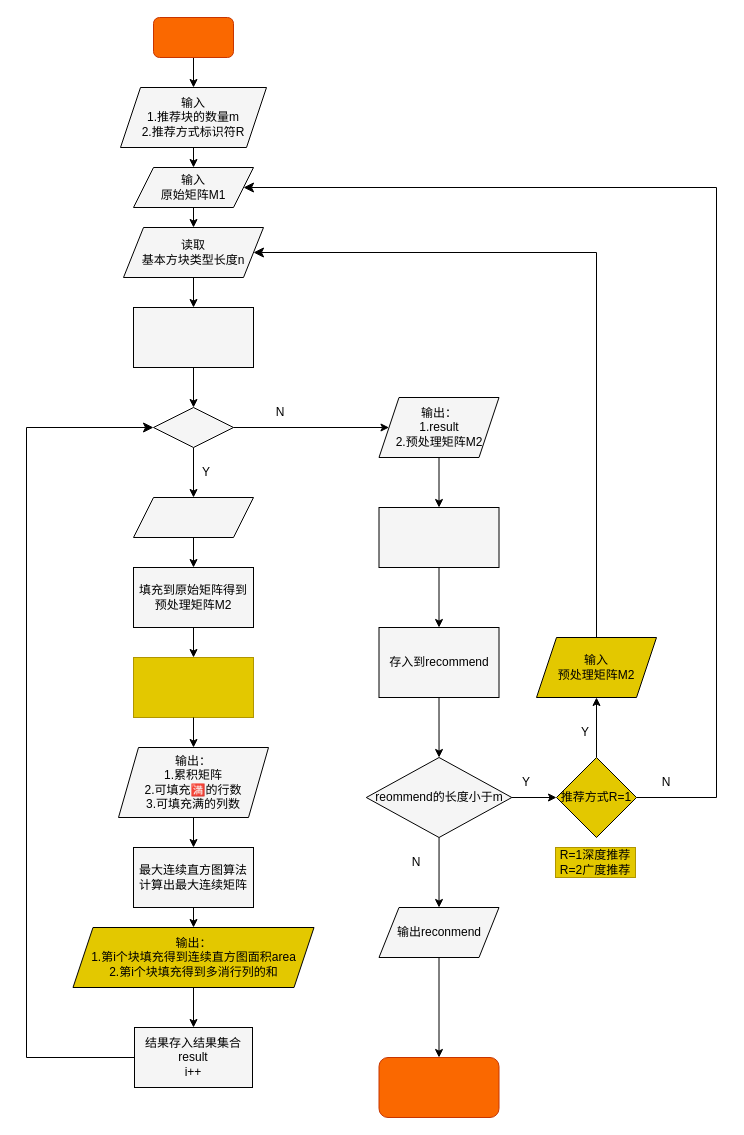
Image size: 744x1135. Some labels were removed from this diagram. The centre of each missing label's shape, as x and y in pixels:
"i<n" belongs at (x=193, y=427).
"i=0 j=0 result=[] recommend=[]" belongs at (x=193, y=337).
"开始" belongs at (x=193, y=37).
"按列的前缀和序列计算原始矩阵累积矩阵" belongs at (x=193, y=687).
"根据最大连续直方图的面积和多消结果选择最优解" belongs at (x=438, y=537).
"结束" belongs at (x=438, y=1087).
"读取第i个块" belongs at (x=193, y=517).
